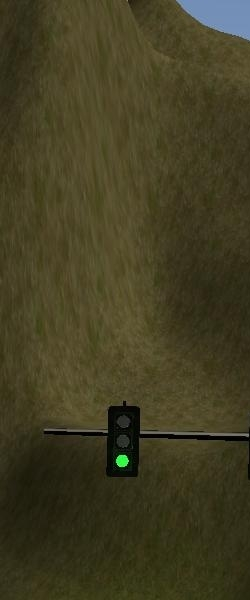Green: (105, 404, 142, 479)
